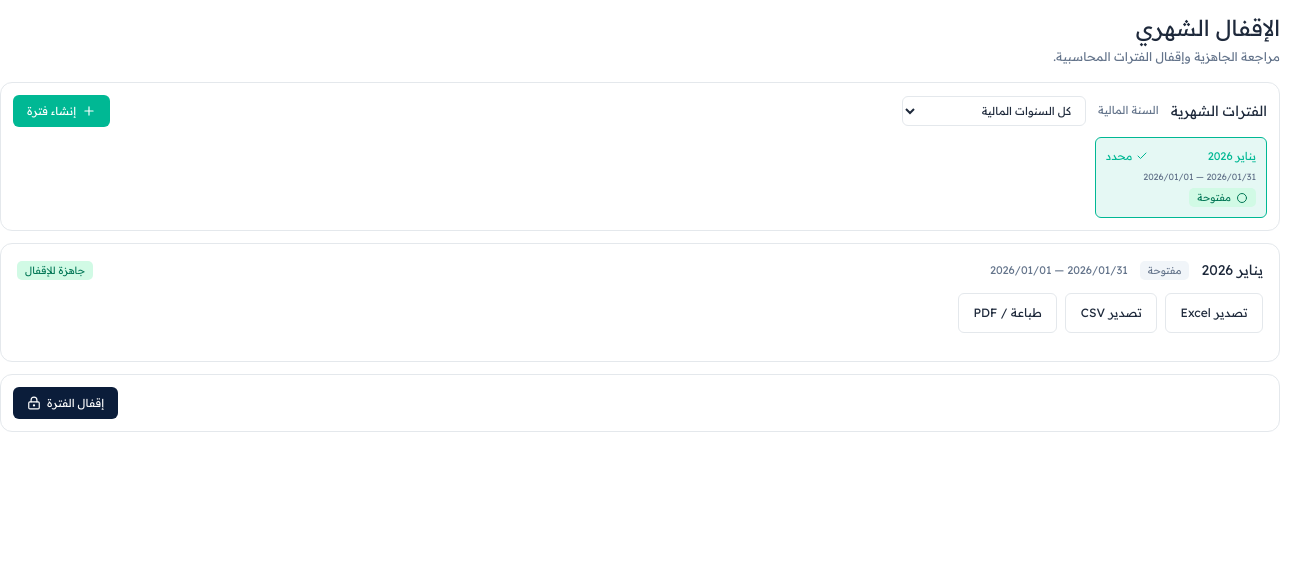
Test: MonthlyClose › shows the translated MONTHLY_CLOSE_BLOCKED message (ar) when closing fails, never the raw backend text
Click the button "إقفال الفترة" at (66, 403), box x1=13 y1=387 x2=118 y2=419
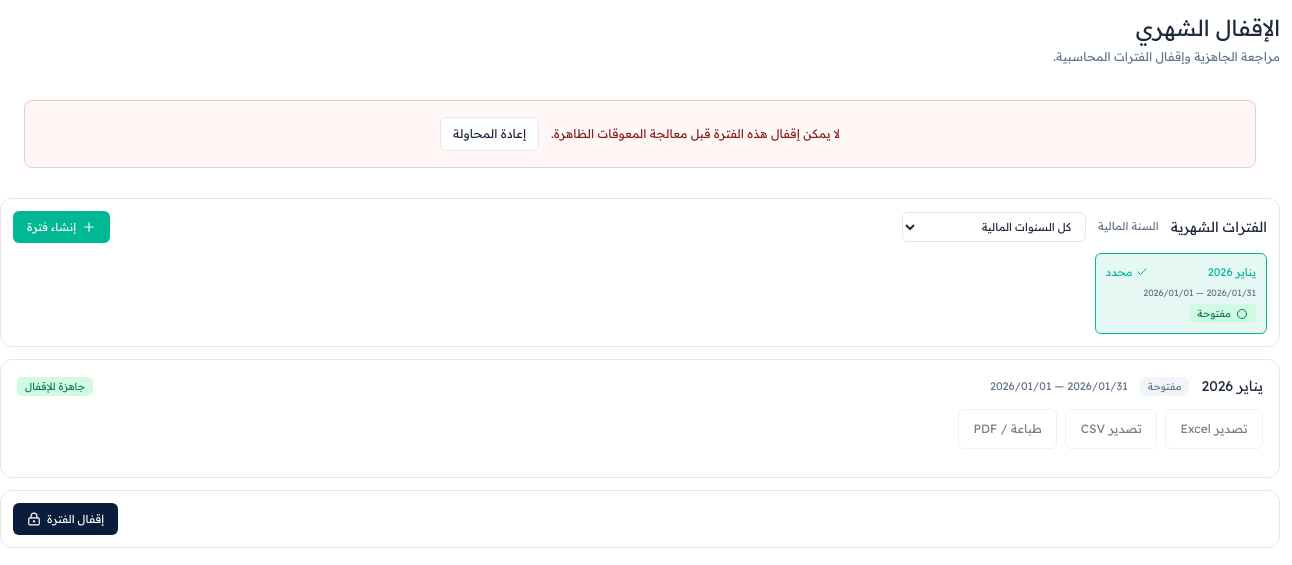
Expected: the text "لا يمكن إقفال هذه الفترة قبل معالجة المعوقات الظاهرة." is shown, x1=551 y1=124 x2=840 y2=144
